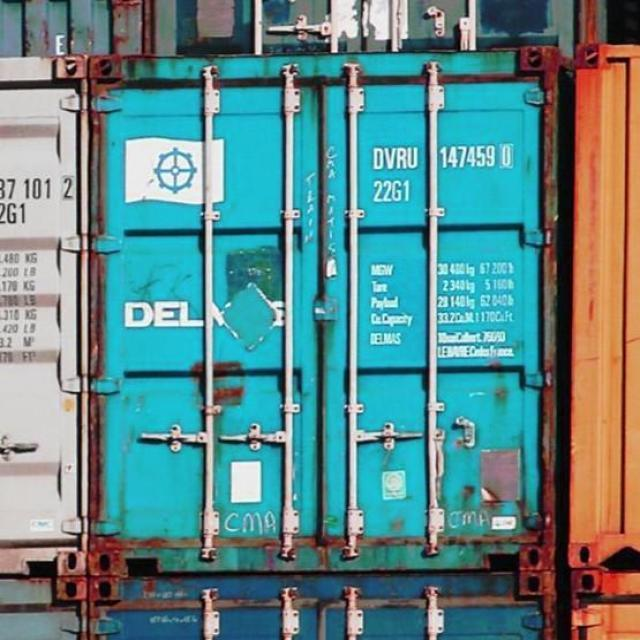ISO: (370, 178, 412, 202)
container_number: (370, 146, 516, 168)
